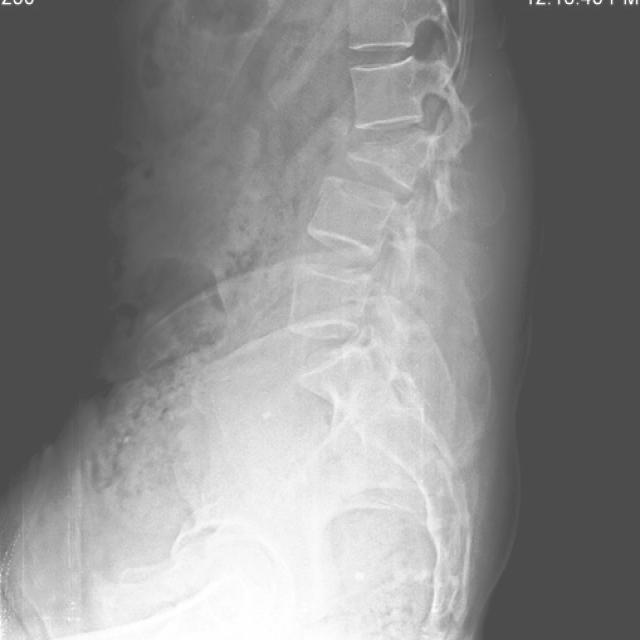Compression-Crush Fracutre: (342, 119, 447, 195)
